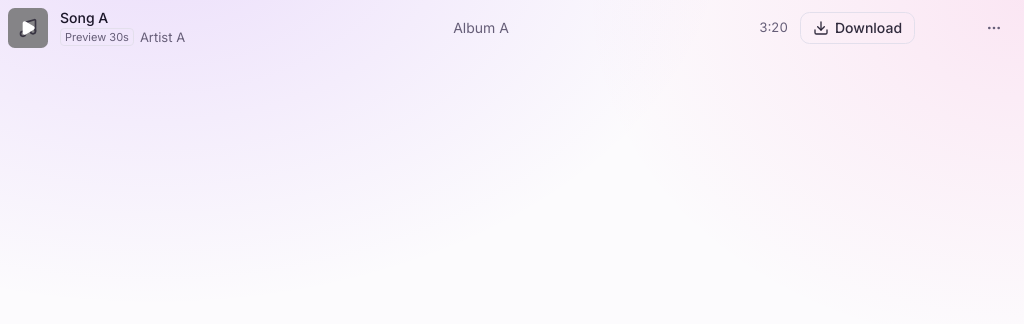
TrackMenu — what each viewer is offered › a user, for a track that is not in the library
Click the button named "More actions for Song A": coordinates (994, 28) [972,6,1016,50]
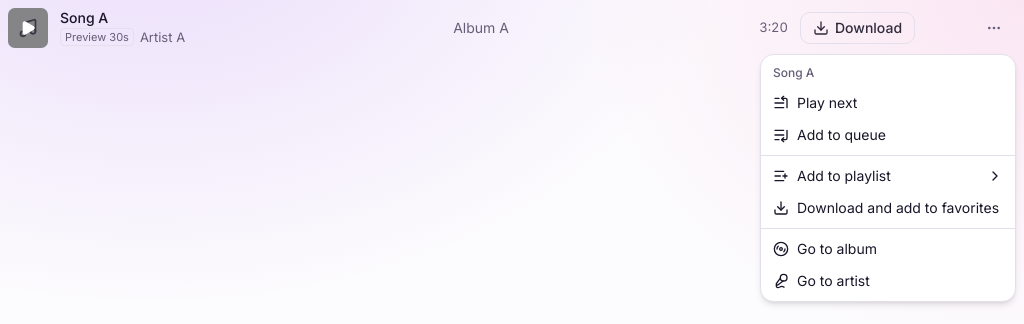
Check: the menu is shown, box [760,54,1016,302]
